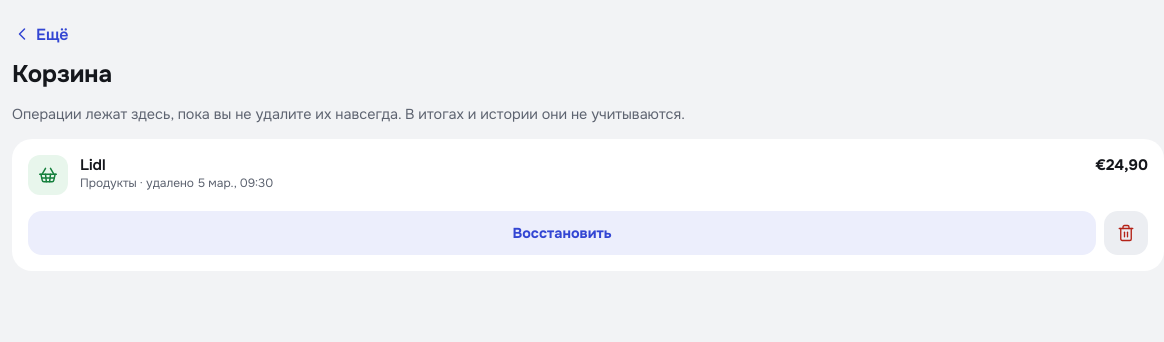
Test: TrashScreen › asks for purge confirmation inline and never uses window.confirm
The image size is (1164, 342).
Click the button named "Удалить навсегда: Lidl": (1126,233) [1104,211,1148,255]
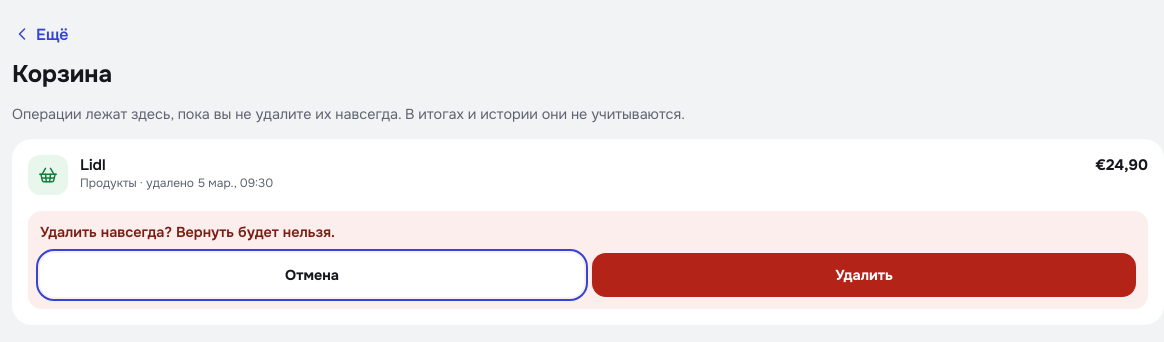
Now the text "Удалить навсегда? Вернуть будет нельзя." is shown, box [40,223,335,241]
Now the button "Восстановить" is gone
